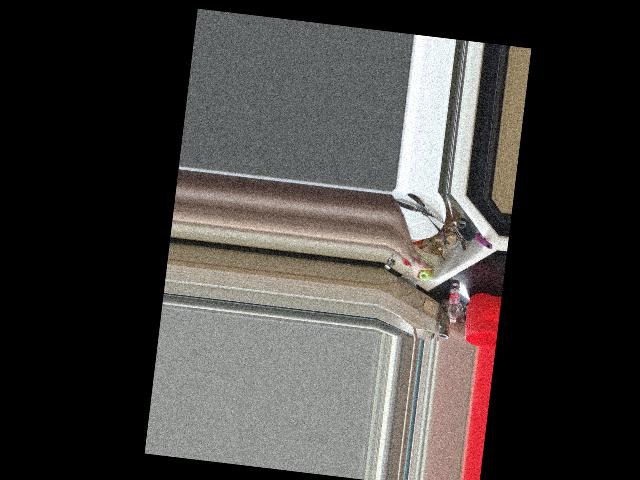apple: (417, 263, 434, 283)
